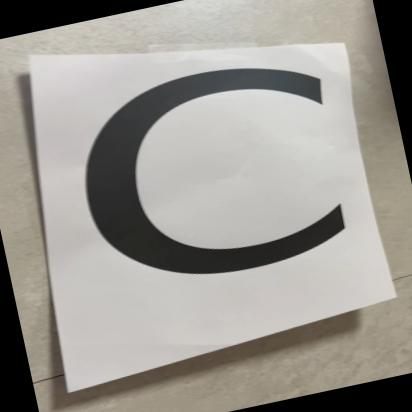seat: (29, 0, 390, 360)
